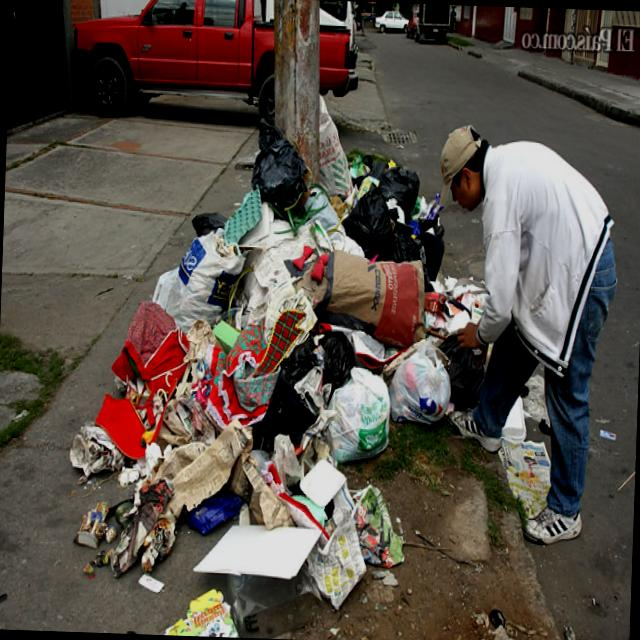garbage: (72, 123, 447, 640)
